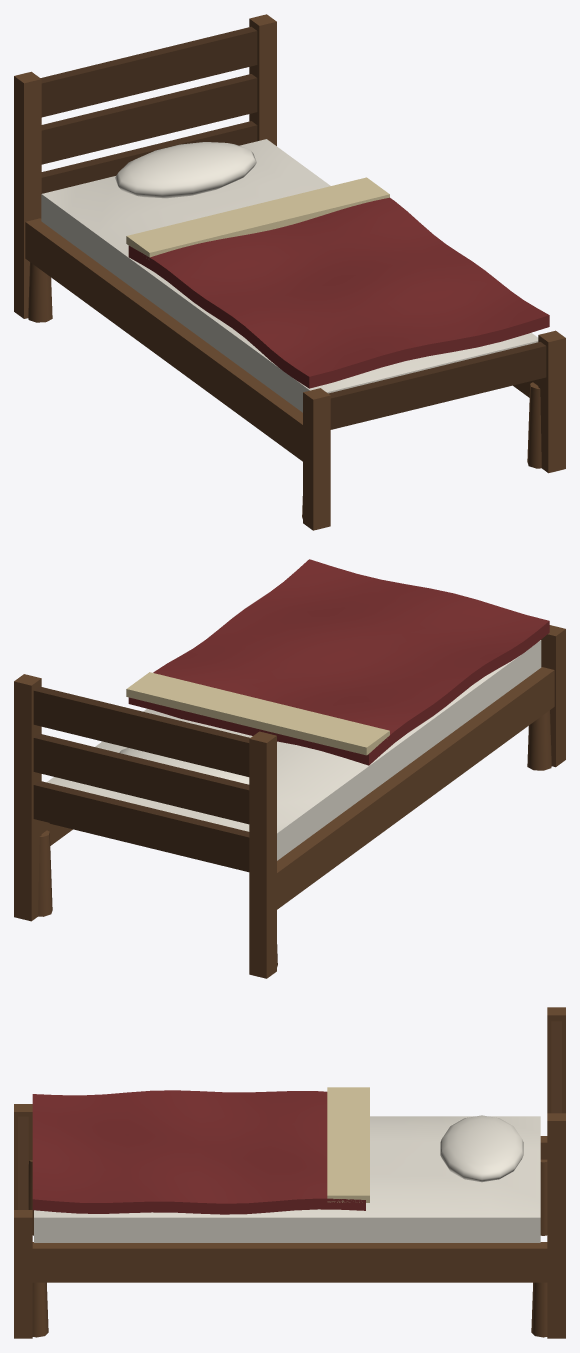
File: bed.glb
3 views of the same model, one above another, from view 1: azimuth 30°, elevation 25°; view 2: azimuth 150°, elevation 25°; view 3: azimuth 270°, elevation 25° (orthographic). The views are drawn at different scales.
Parts seen in each view (by area): view 1: bed; view 2: bed; view 3: bed.
Part boxes in pixels (<box>): bed: <box>14,14,565,530</box>; bed: <box>14,559,565,978</box>; bed: <box>14,1007,565,1338</box>.
Size of the model in its own units: 2.52 by 2.25 by 5.17.
